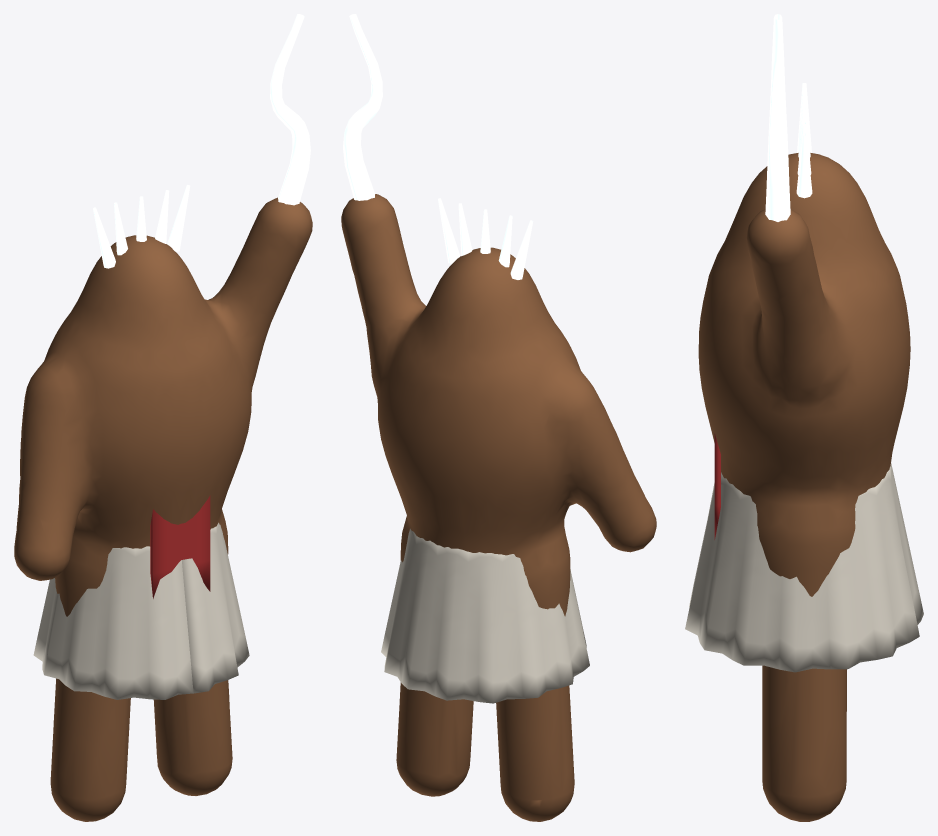
The model's file is titan.glb.
3 views of the same model, side by side, from view 1: azimuth 30°, elevation 25°; view 2: azimuth 150°, elevation 25°; view 3: azimuth 270°, elevation 25° (orthographic). The views are drawn at different scales.
Parts seen in each view (by area): view 1: bronze_skin, white, bolt, team; view 2: bronze_skin, white, bolt; view 3: bronze_skin, white, bolt, team.
Boxes of the visible parts, left/top/right/bottom form: bronze_skin: left=14, top=197, right=312, bottom=821; white: left=33, top=522, right=249, bottom=699; bolt: left=93, top=14, right=310, bottom=268; team: left=150, top=495, right=210, bottom=598; bronze_skin: left=341, top=194, right=656, bottom=821; white: left=381, top=528, right=589, bottom=703; bolt: left=343, top=14, right=533, bottom=279; bronze_skin: left=698, top=153, right=910, bottom=821; white: left=685, top=463, right=923, bottom=672; bolt: left=765, top=14, right=812, bottom=221; team: left=714, top=433, right=720, bottom=539.
Bounding box in the file's own units: 0.7421 × 1.78 × 0.452.
